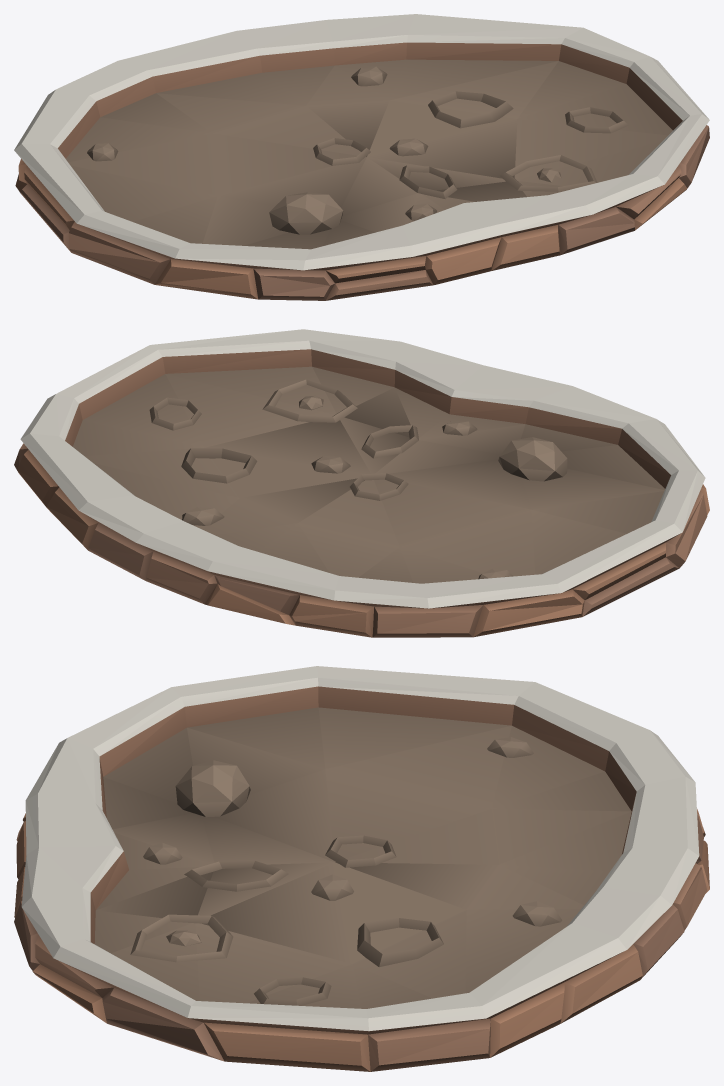
File: mud.glb
The picture shows the model from 3 angles, top to bottom: view 1: azimuth 30°, elevation 25°; view 2: azimuth 150°, elevation 25°; view 3: azimuth 270°, elevation 25°; orthographic projection. The views are drawn at different scales.
Visible parts, largest first — view 1: mud; view 2: mud; view 3: mud.
Part boxes in pixels (x1=…): mud: x1=14, y1=14, x2=709, y2=300; mud: x1=14, y1=329, x2=709, y2=637; mud: x1=14, y1=666, x2=709, y2=1071.
Size of the model in its own units: 4.5 by 0.323 by 3.6.
